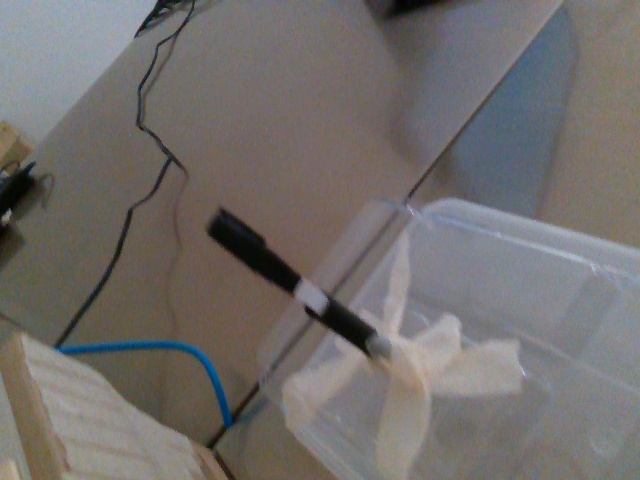test_strip: (203, 207, 329, 317)
